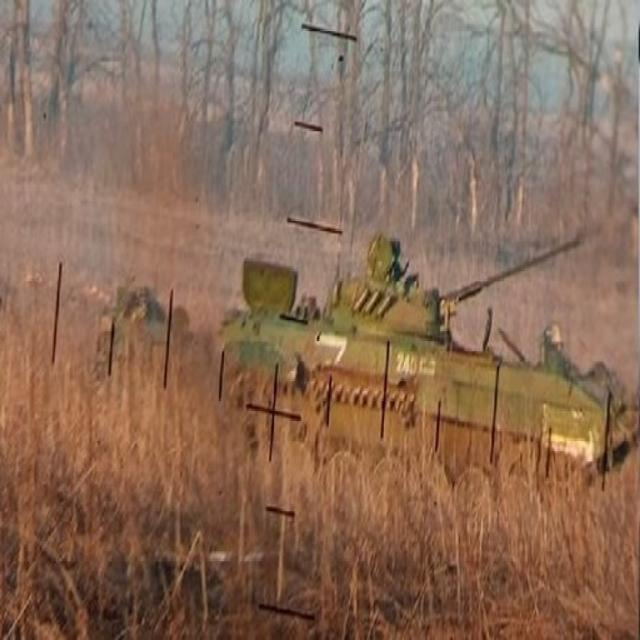APC-IFV: (218, 220, 628, 502)
